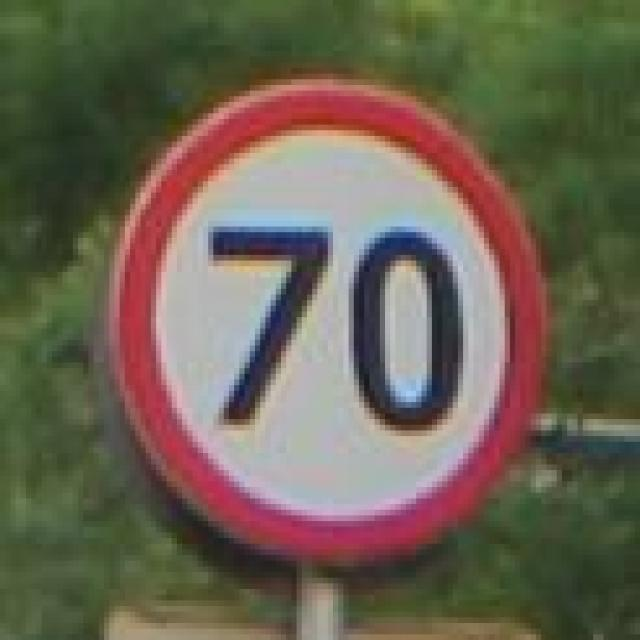speed limit 70: (112, 76, 549, 563)
